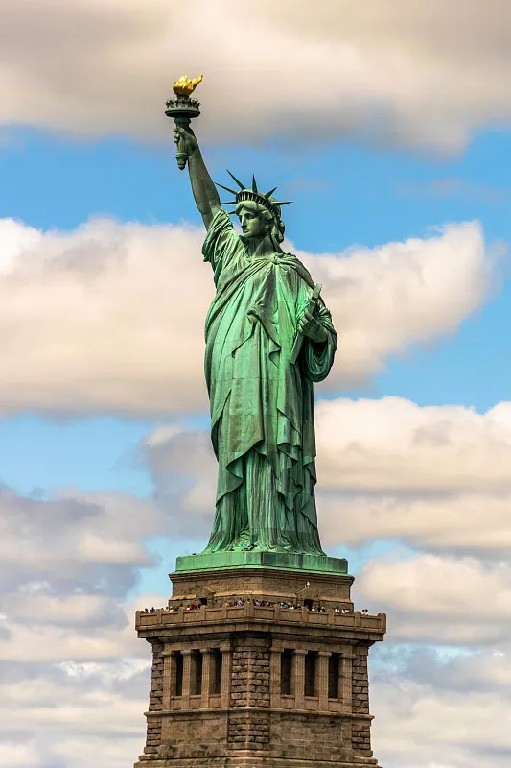SL: (135, 73, 386, 768)
